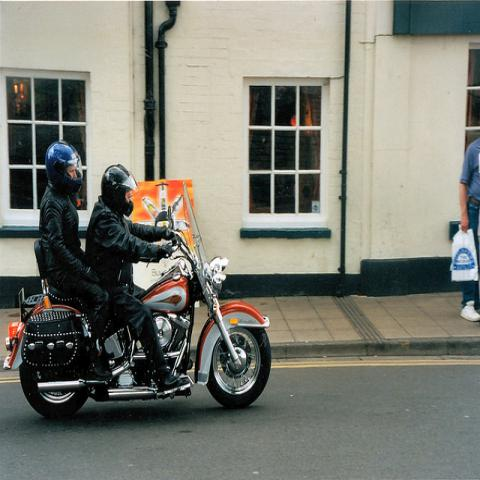motorcycle: (4, 229, 274, 418)
